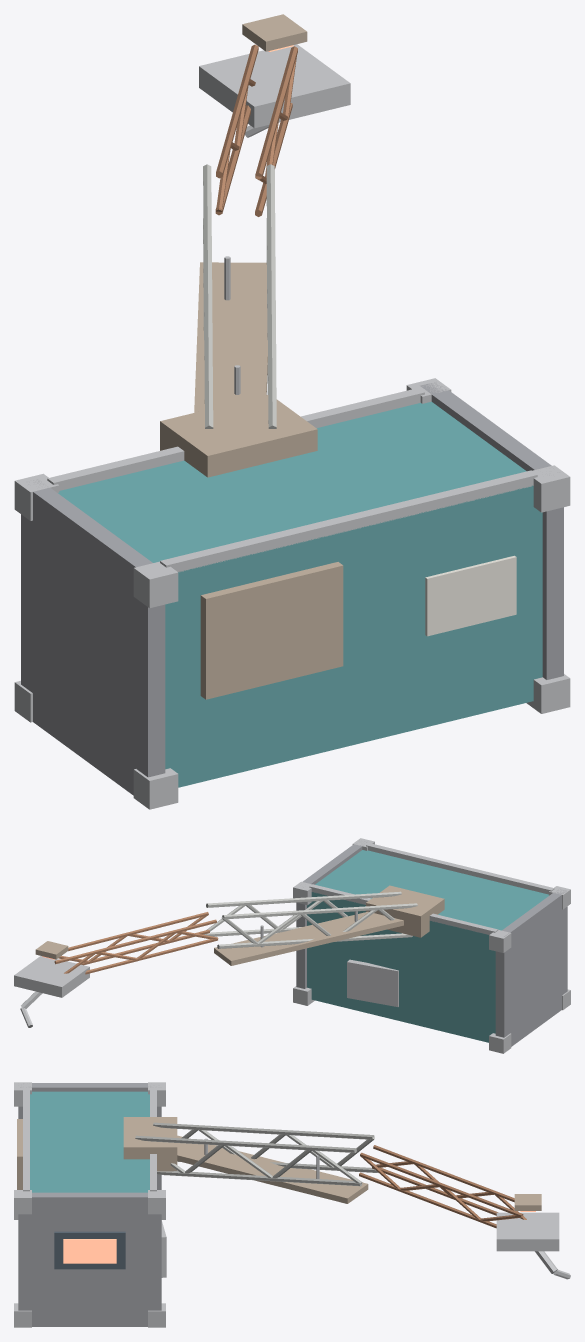
File: improvised_dock.glb
3 renders of one model, top to bottom at view 1: azimuth 30°, elevation 25°; view 2: azimuth 150°, elevation 25°; view 3: azimuth 270°, elevation 25°, orthographic. The views are drawn at different scales.
Visible parts, largest first — view 1: shack_body, shack_enda, shack_patch_a, walk, shack_casts, arm_mount, hookplate, shack_endf, shack_rails, shack_plate, arm_a, arm_b (+2 smaller); view 2: shack_body, shack_enda, arm_a, walk, arm_b, arm_mount, hookplate, shack_casts, shack_patch_b, shack_rails, shack_endf, shack_railp (+1 smaller); view 3: shack_endf, shack_body, arm_a, arm_b, walk, hookplate, arm_mount, shack_casts, shack_window, shack_glow, shack_enda, shack_rails (+3 smaller).
Boxes of the visible parts, x1,y1,x2,y2 form: shack_body: (58, 401, 542, 787); shack_enda: (21, 479, 165, 795); shack_patch_a: (200, 562, 343, 699); walk: (194, 262, 267, 412); shack_casts: (14, 378, 570, 809); arm_mount: (160, 395, 317, 477); hookplate: (199, 44, 350, 128); shack_endf: (420, 382, 563, 679); shack_rails: (160, 470, 537, 572); shack_plate: (425, 555, 516, 636); arm_a: (203, 164, 276, 428); arm_b: (215, 44, 297, 216); shack_body: (307, 850, 548, 1042); shack_enda: (495, 889, 567, 1046); arm_a: (203, 891, 417, 948); walk: (214, 911, 403, 965); arm_b: (54, 912, 218, 974); arm_mount: (366, 885, 444, 937); hookplate: (14, 956, 89, 997); shack_casts: (293, 838, 570, 1053); shack_patch_b: (347, 959, 398, 1006); shack_rails: (366, 843, 554, 894); shack_endf: (296, 840, 366, 988); shack_railp: (309, 884, 498, 934); shack_endf: (18, 1192, 161, 1326); shack_body: (30, 1091, 149, 1192); arm_a: (135, 1122, 378, 1186); arm_b: (359, 1145, 526, 1228); walk: (177, 1135, 368, 1203); hookplate: (496, 1212, 559, 1251); arm_mount: (123, 1117, 177, 1171); shack_casts: (14, 1082, 165, 1327); shack_window: (54, 1231, 125, 1269); shack_glow: (63, 1239, 116, 1263); shack_enda: (18, 1083, 161, 1189); shack_rails: (23, 1088, 29, 1191).
Size of the model in its own units: 9.16 by 4.45 by 12.46.
